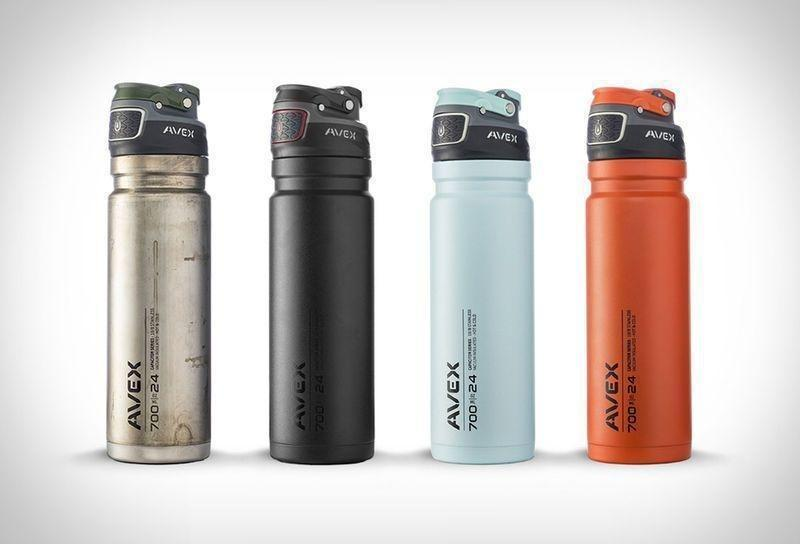gym bottle: (263, 77, 381, 473), (101, 75, 218, 473), (579, 85, 699, 470), (424, 79, 540, 473)
